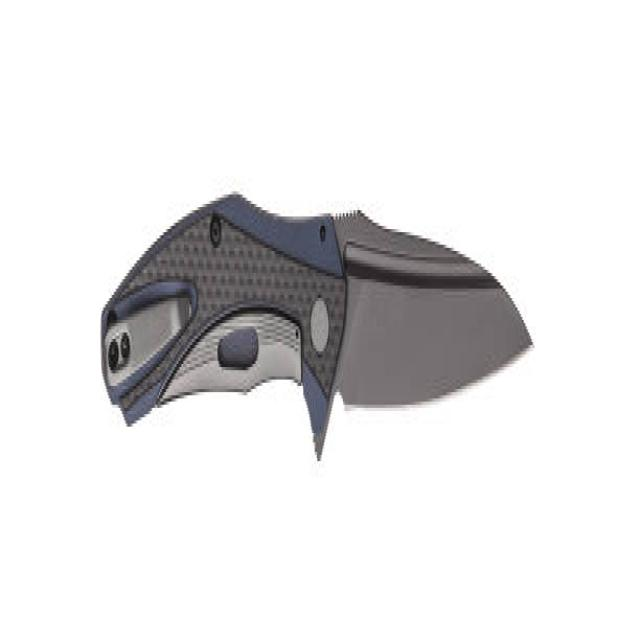knife: (83, 167, 539, 488)
